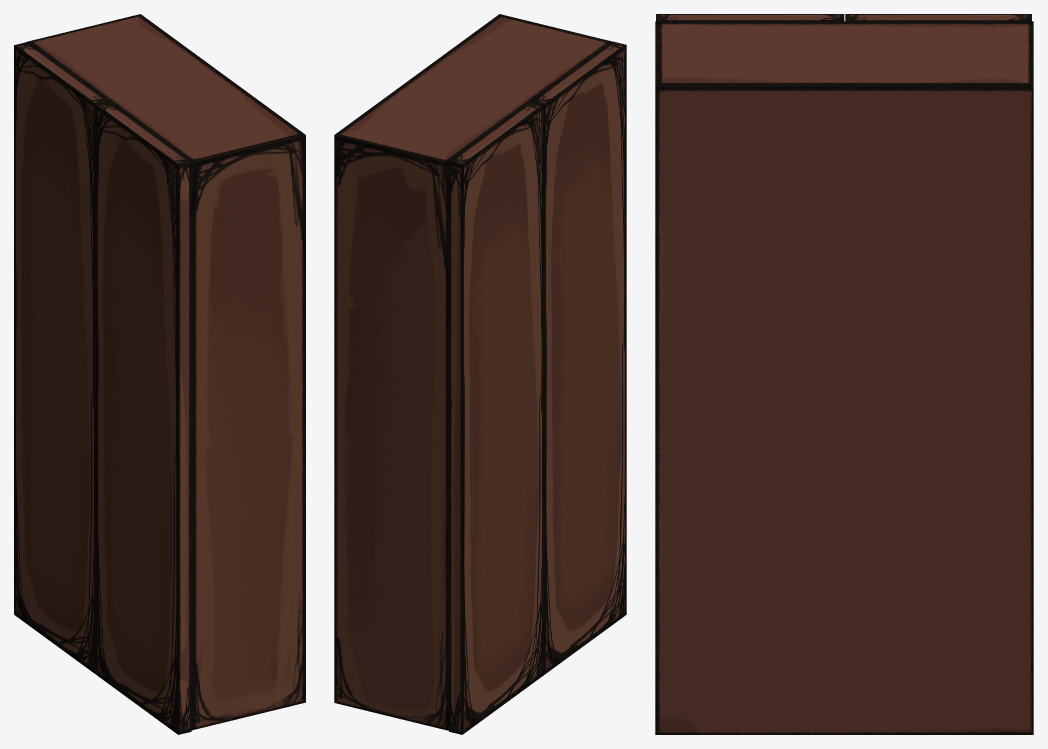
File: wardrobe_livingroom_1.fbx
3 renders of one model, left to right at view 1: azimuth 30°, elevation 25°; view 2: azimuth 150°, elevation 25°; view 3: azimuth 270°, elevation 25°, orthographic. The views are drawn at different scales.
Parts seen in each view (by area): view 1: wardrobe_livingroom_1.001, cupboard_door.005, cupboard_door.004; view 2: wardrobe_livingroom_1.001, cupboard_door.004, cupboard_door.005; view 3: wardrobe_livingroom_1.001, cupboard_door.005, cupboard_door.004.
Part boxes in pixels (box(x1,y1,x2,y2)): wardrobe_livingroom_1.001: box(27, 14, 305, 730); cupboard_door.005: box(96, 102, 191, 734); cupboard_door.004: box(14, 42, 108, 674); wardrobe_livingroom_1.001: box(334, 14, 612, 730); cupboard_door.004: box(449, 102, 543, 734); cupboard_door.005: box(531, 41, 626, 674); wardrobe_livingroom_1.001: box(655, 21, 1033, 734); cupboard_door.005: box(656, 14, 844, 21); cupboard_door.004: box(845, 14, 1031, 21).
Size of the model in its own units: 0.8062 by 3.45 by 1.81.
3 materials, 3 textured.
